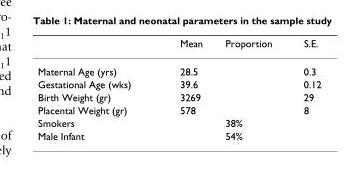table: (37, 36, 320, 141)
table column: (37, 36, 154, 141), (213, 36, 287, 141), (154, 36, 213, 141), (287, 36, 320, 141)
table column header: (37, 36, 320, 56)
table row: (37, 56, 320, 77), (37, 36, 320, 56), (37, 77, 320, 90), (37, 90, 320, 103), (37, 103, 320, 116), (37, 116, 320, 129), (37, 129, 320, 141)
